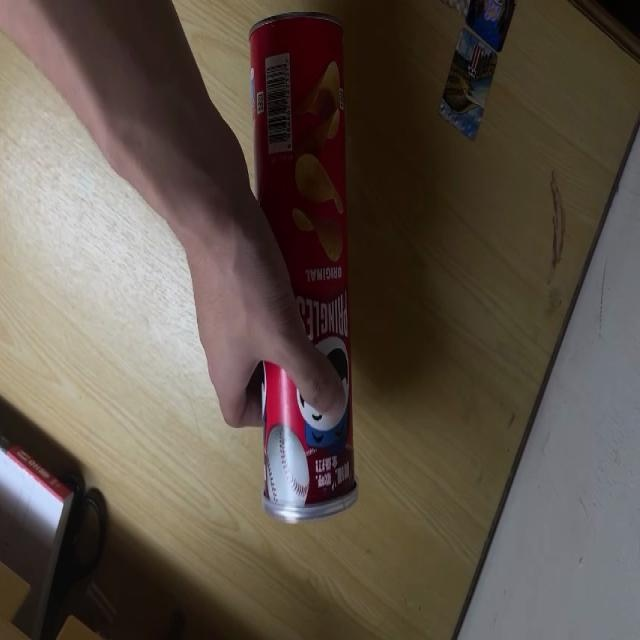Pringles: (247, 15, 357, 524)
